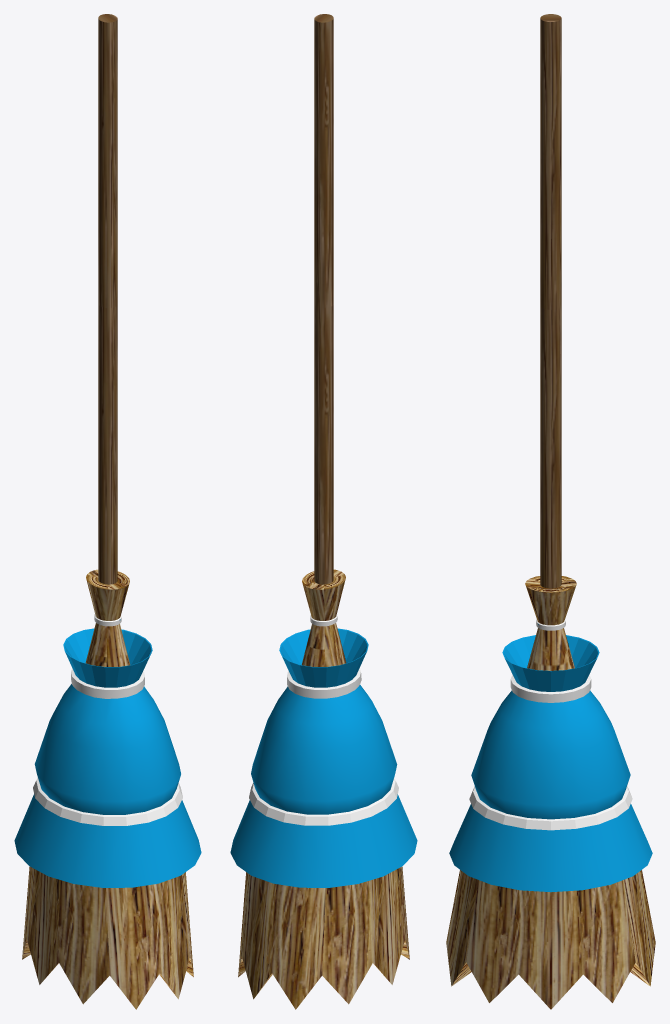
The model's file is broomstick.obj.
3 views of the same model, side by side, from view 1: azimuth 30°, elevation 25°; view 2: azimuth 150°, elevation 25°; view 3: azimuth 270°, elevation 25° (orthographic).
Visible parts, largest first — view 1: pCylinder3; view 2: pCylinder3; view 3: pCylinder3.
Boxes of the visible parts, <box> form: pCylinder3: <box>14,14,201,1009</box>; pCylinder3: <box>230,14,417,1009</box>; pCylinder3: <box>446,14,655,1009</box>.
Bounding box in the file's own units: 1.66 × 9.55 × 1.89.
1 material, 1 textured.
